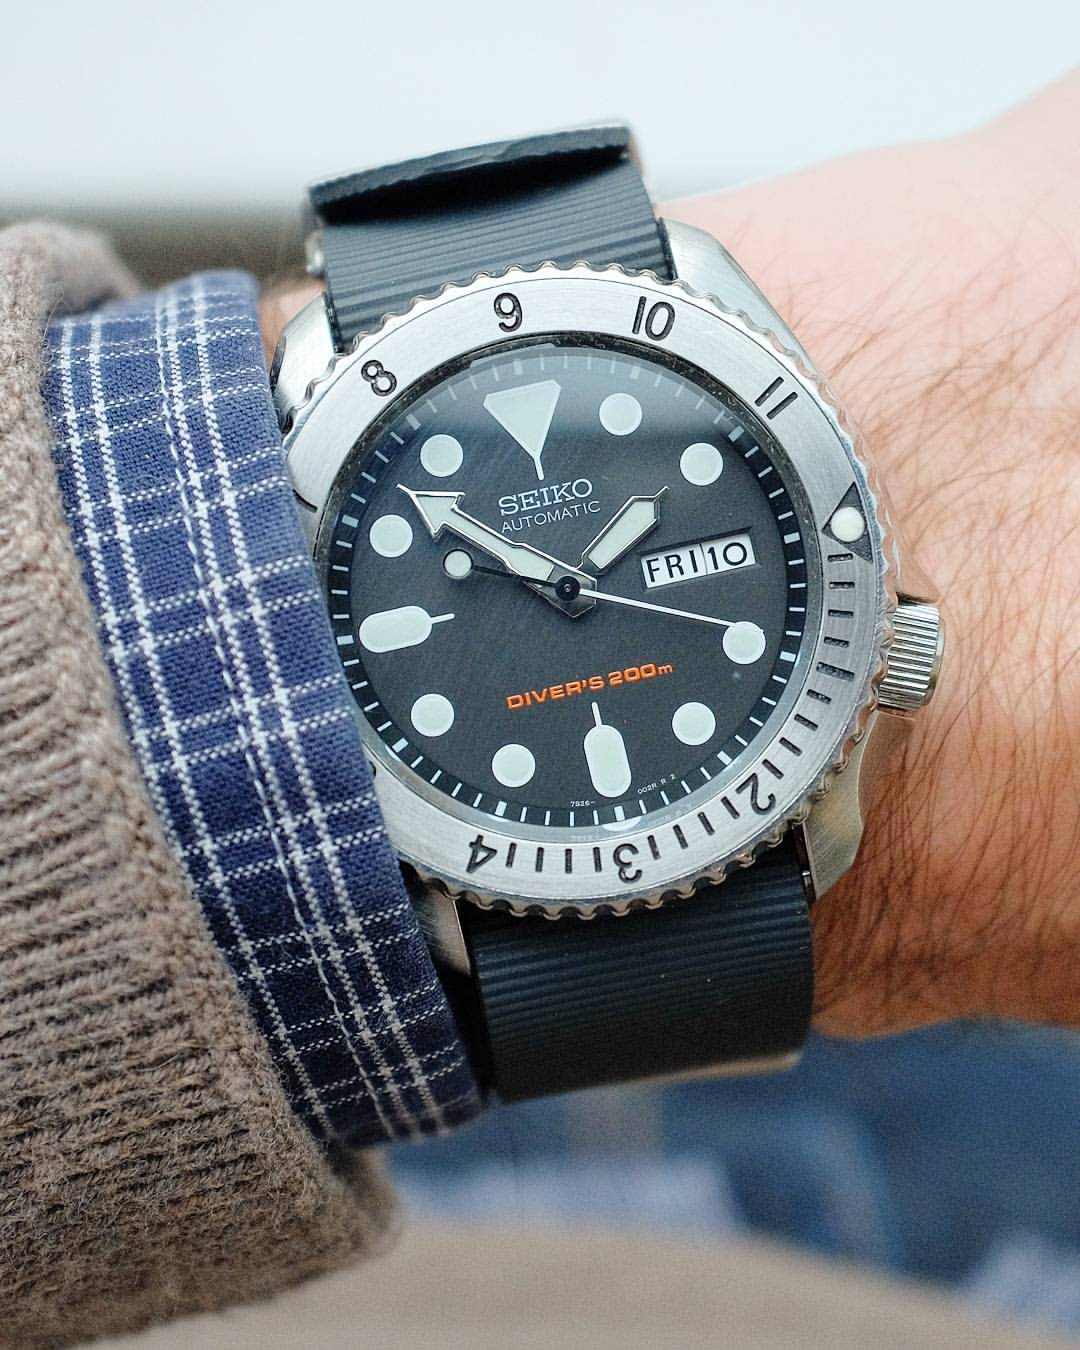clock: (257, 260, 911, 930)
